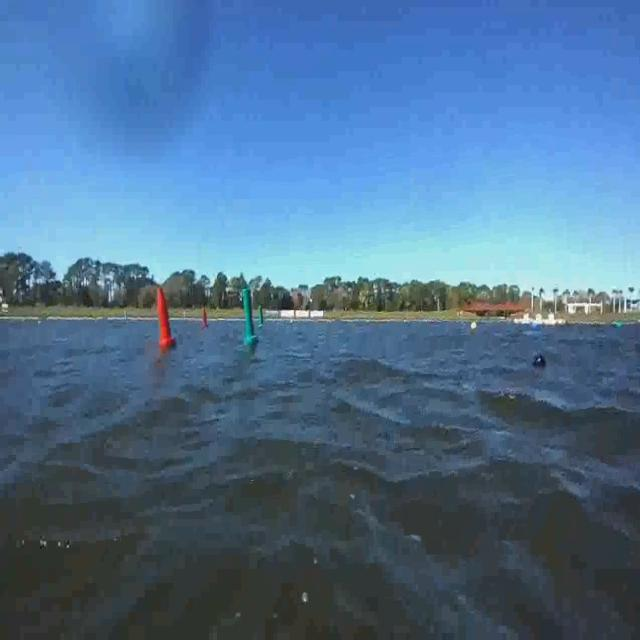blue-buoy: (530, 350, 547, 372)
green-column-buoy: (241, 288, 259, 345), (257, 304, 264, 326)
red-column-buoy: (157, 289, 176, 349), (202, 306, 210, 328)
yellow-buoy: (470, 319, 477, 332)
